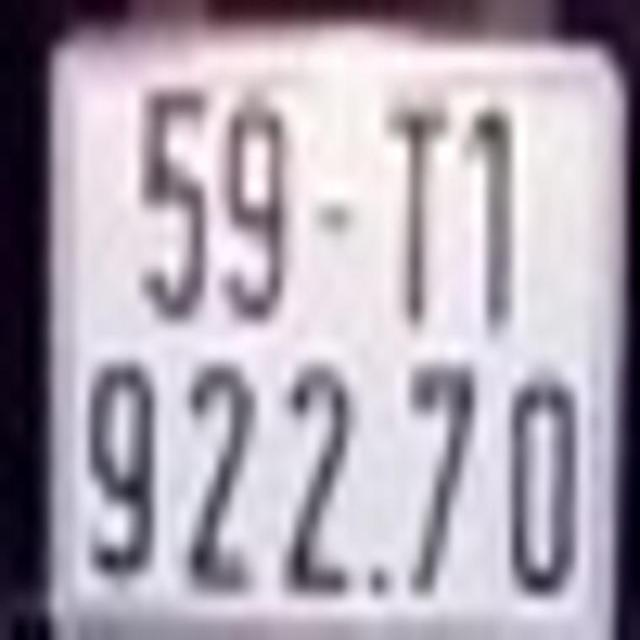0: (512, 375, 573, 587)
1: (468, 112, 520, 329)
2: (187, 367, 248, 588), (288, 362, 346, 594)
5: (139, 89, 212, 321)
7: (404, 360, 487, 599)
9: (88, 360, 160, 573), (225, 99, 289, 319)
T: (385, 106, 455, 329)
